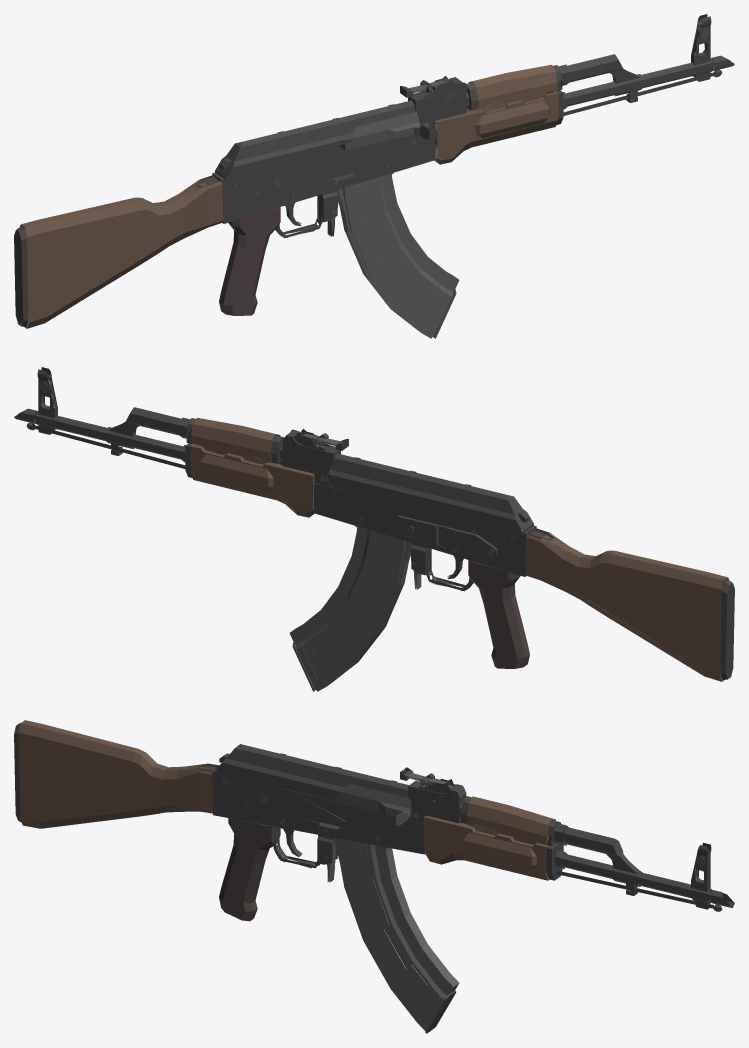
The model's file is ak_med.glb.
3 views of the same model, one above another, from view 1: azimuth 30°, elevation 25°; view 2: azimuth 150°, elevation 25°; view 3: azimuth 330°, elevation 25° (orthographic).
Parts seen in each view (by area): view 1: body, mag, bolt; view 2: body, mag; view 3: body, mag, bolt.
Boxes of the visible parts, box(x1,y1,x2,y2) form: body: box(14, 14, 734, 328); mag: box(337, 173, 459, 338); bolt: box(338, 111, 429, 150); body: box(14, 367, 734, 681); mag: box(289, 526, 411, 691); body: box(14, 720, 734, 921); mag: box(333, 837, 459, 1033); bolt: box(336, 783, 411, 826).
Bounding box in the file's own units: 0.88 × 0.2999 × 0.0512.
